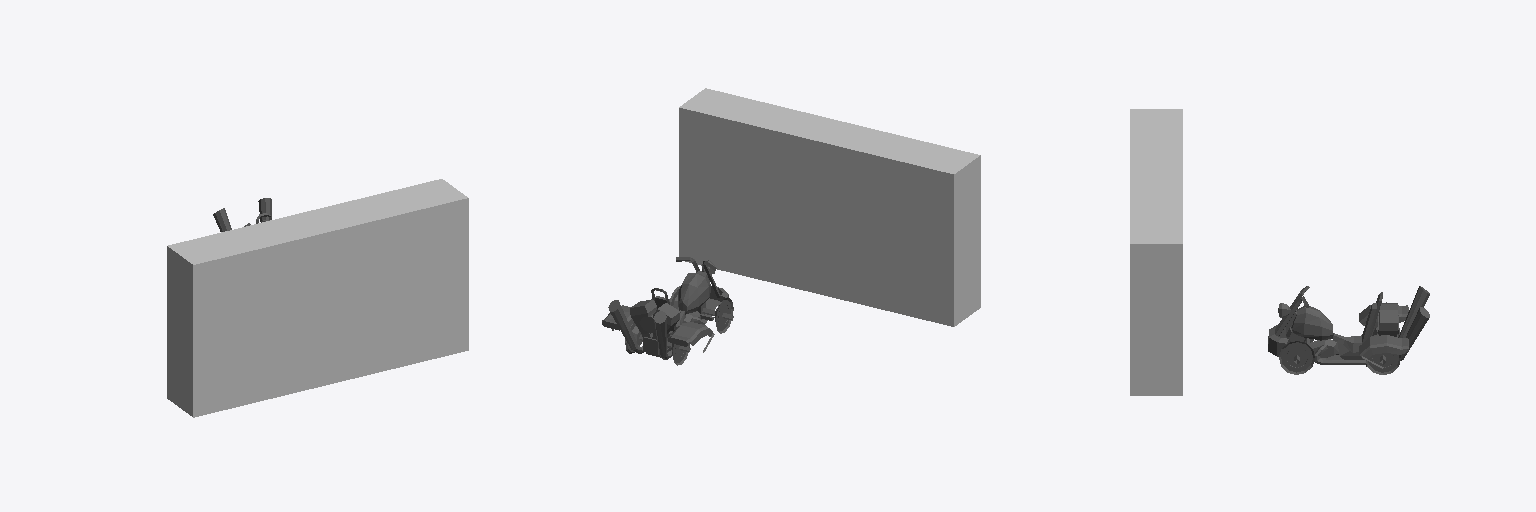
File: wall.obj
3 renders of one model, left to right at view 1: azimuth 30°, elevation 25°; view 2: azimuth 150°, elevation 25°; view 3: azimuth 270°, elevation 25°, orthographic.
Visible parts, largest first — view 1: Cube_Cube.001, Kart.005; view 2: Cube_Cube.001, Kart.005; view 3: Cube_Cube.001, Kart.005.
Part boxes in pixels (x1,y1,x2,y2): Cube_Cube.001: (167,179,468,417); Kart.005: (213,198,271,231); Cube_Cube.001: (679,88,980,326); Kart.005: (602,257,733,365); Cube_Cube.001: (1130,109,1182,395); Kart.005: (1268,286,1429,374).
Size of the model in its own units: 52.75 by 29.08 by 49.84.